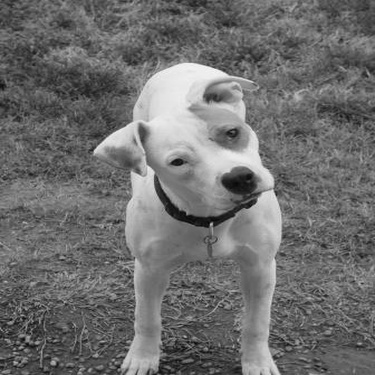dog: (83, 55, 288, 374)
